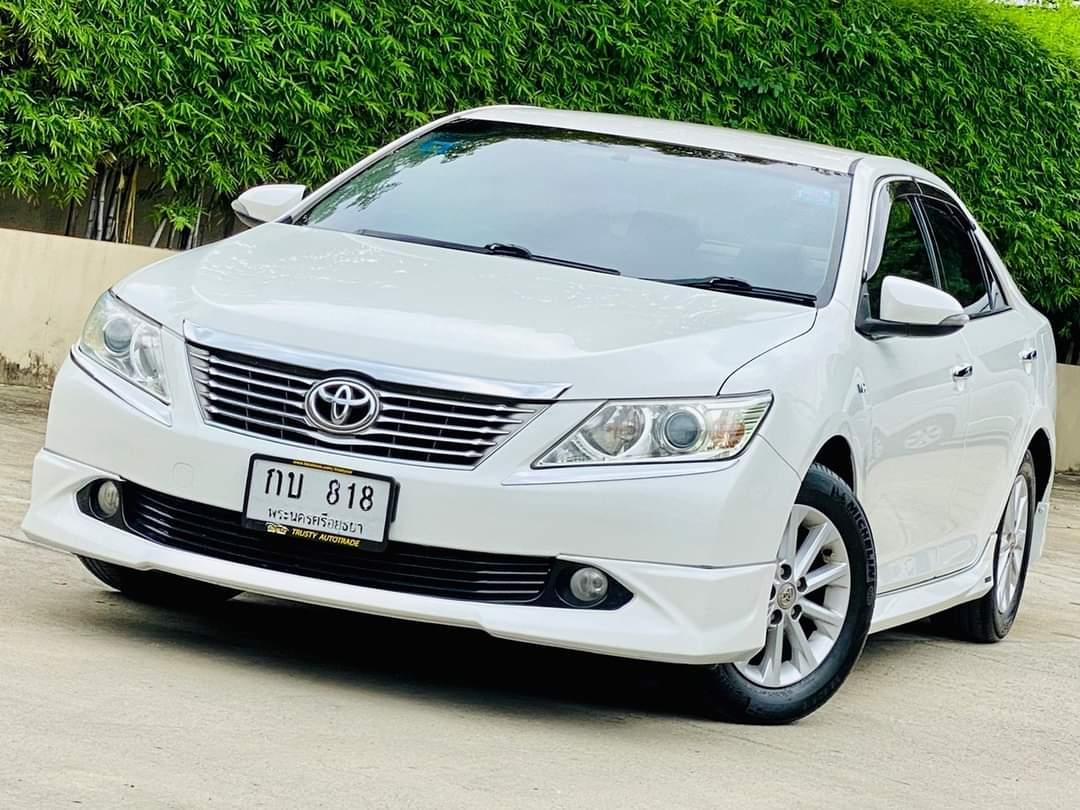license-plate: (237, 448, 405, 559)
